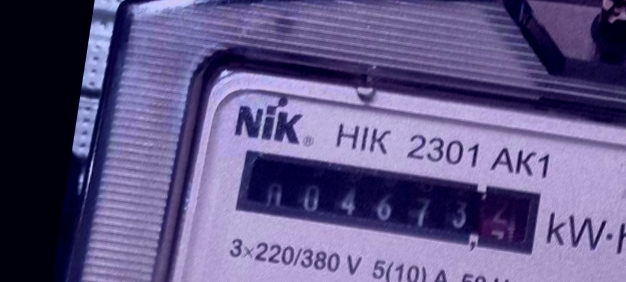0: (263, 176, 287, 209), (301, 180, 323, 213)
2: (490, 192, 514, 227)
3: (450, 195, 471, 232)
4: (338, 182, 361, 219)
6: (372, 187, 398, 224)
7: (409, 192, 436, 232)
screen: (231, 143, 548, 264)
